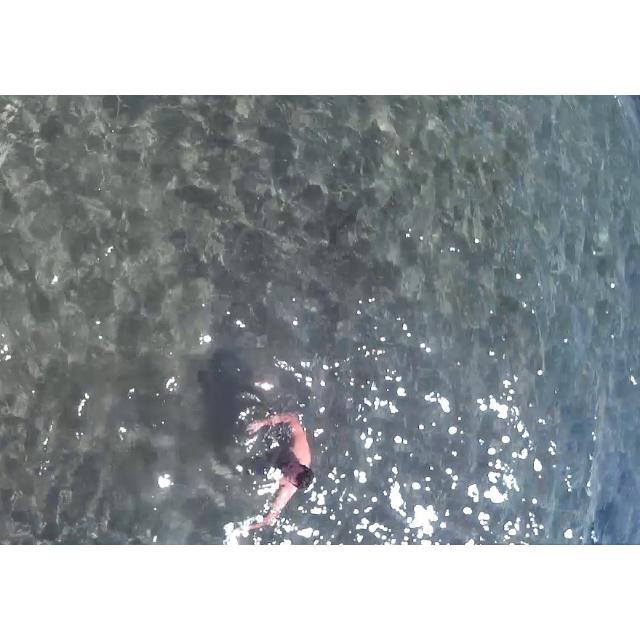human: (230, 392, 323, 545)
